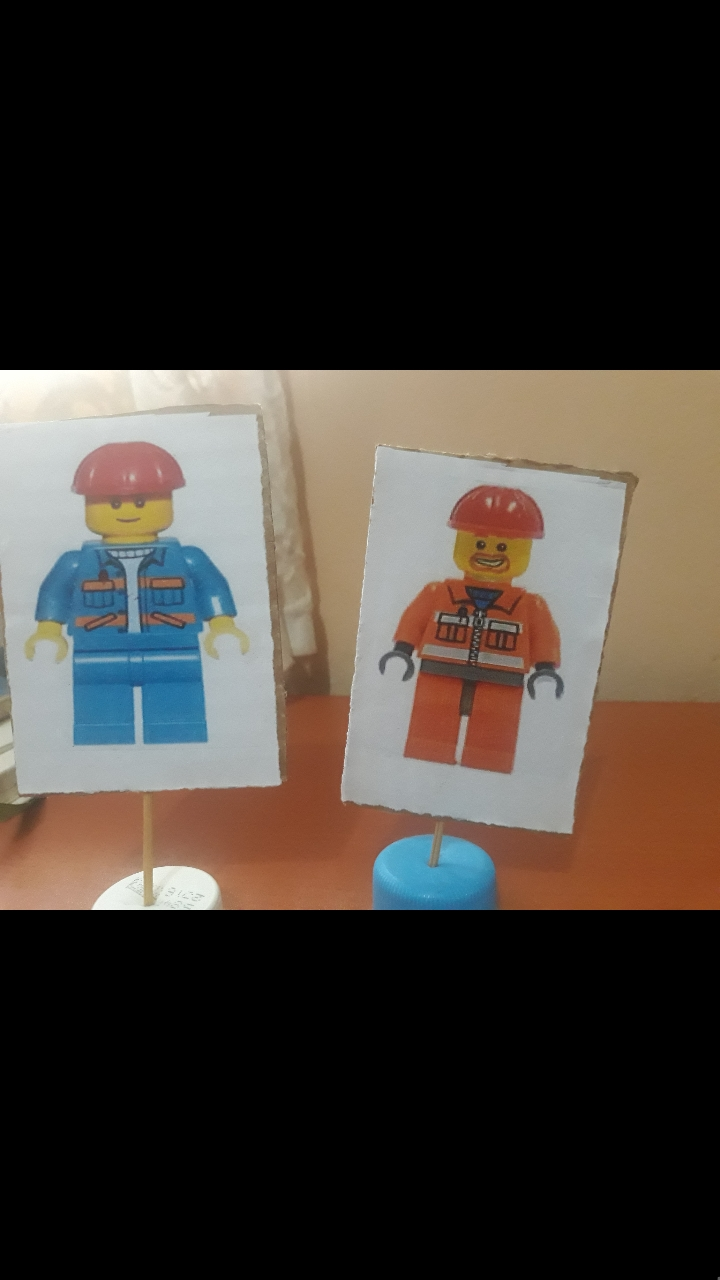pedestrian: (12, 427, 267, 784), (377, 461, 583, 810)
